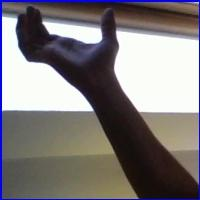space: (11, 3, 130, 84)
